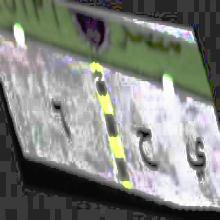6: (49, 89, 74, 146)
7aa: (134, 118, 161, 175)
yaa: (184, 132, 208, 192)
